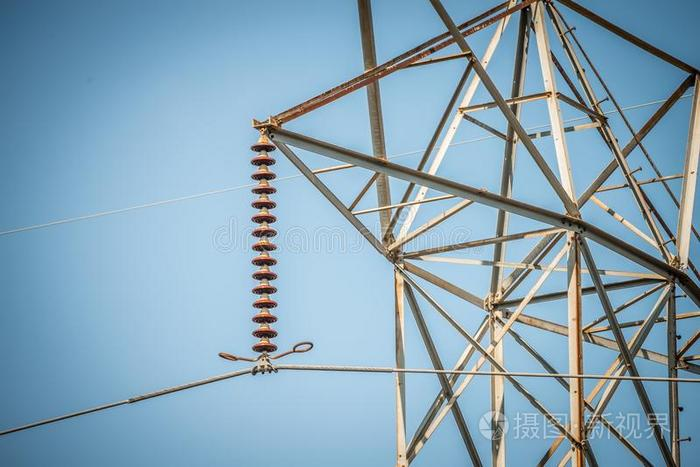insulator: (247, 141, 280, 353)
